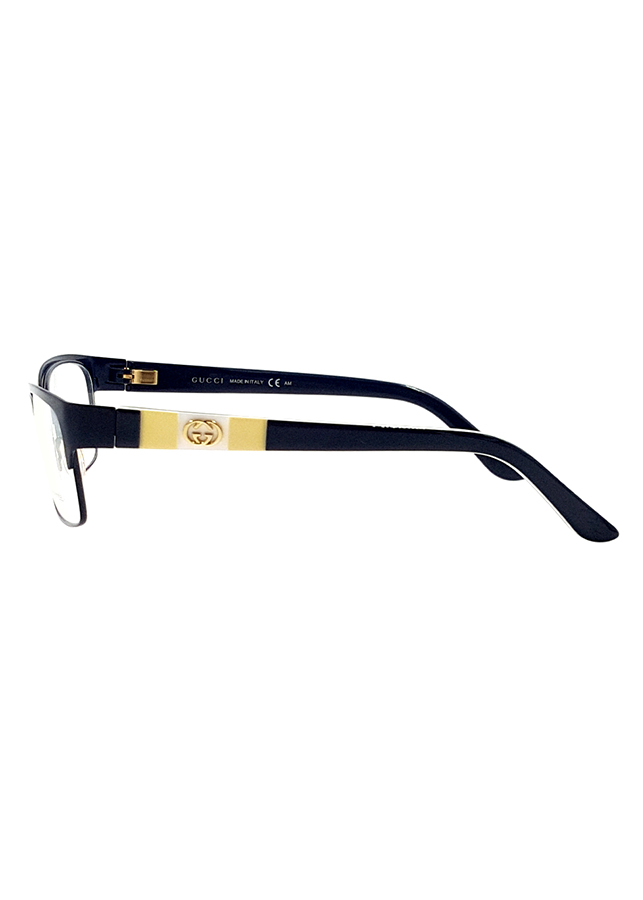Gucci: (174, 412, 232, 459), (185, 371, 227, 391)
